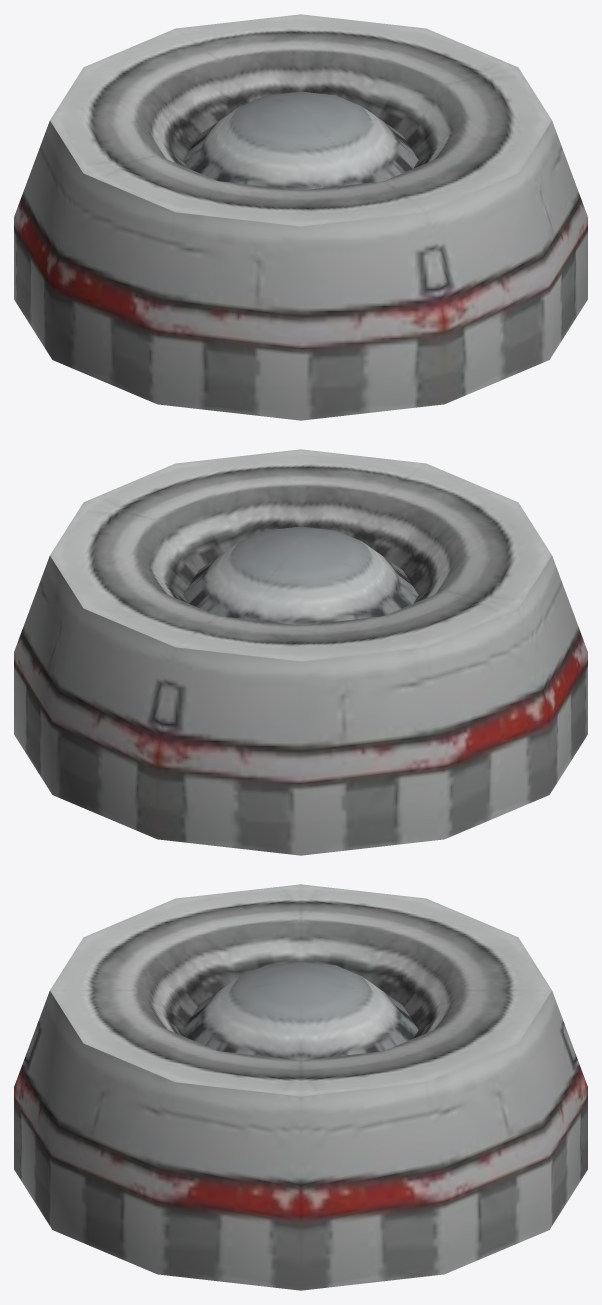
The model's file is Part - Addon 02-DIO2EHHL.glb.
3 views of the same model, one above another, from view 1: azimuth 30°, elevation 25°; view 2: azimuth 150°, elevation 25°; view 3: azimuth 270°, elevation 25° (orthographic).
Parts seen in each view (by area): view 1: Addon_02; view 2: Addon_02; view 3: Addon_02.
Part boxes in pixels (x1,y1,x2,y2): Addon_02: (14,14,587,420); Addon_02: (14,449,587,855); Addon_02: (14,884,587,1290).
Size of the model in its own units: 1.36 by 0.5583 by 1.36.
Materials: 1 (1 with a texture image).
